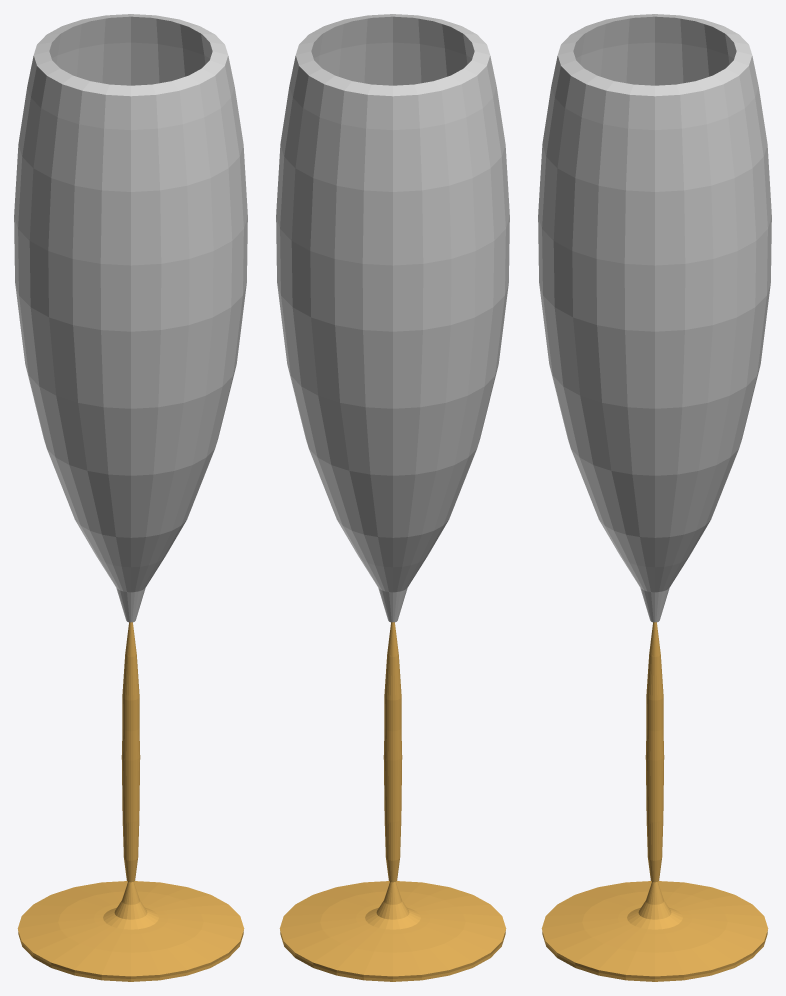
Rendered from Wineglass.fbx.
The picture shows the model from 3 angles, left to right: view 1: azimuth 30°, elevation 25°; view 2: azimuth 150°, elevation 25°; view 3: azimuth 270°, elevation 25°; orthographic projection.
Visible parts, largest first — view 1: wine glass, wine glass base; view 2: wine glass, wine glass base; view 3: wine glass, wine glass base.
Boxes of the visible parts, left/top/right/bottom form: wine glass: left=14, top=14, right=247, bottom=622; wine glass base: left=17, top=622, right=244, bottom=981; wine glass: left=276, top=14, right=509, bottom=622; wine glass base: left=279, top=622, right=506, bottom=981; wine glass: left=538, top=14, right=771, bottom=622; wine glass base: left=541, top=622, right=768, bottom=981.
Size of the model in its own units: 106 by 444 by 106.
